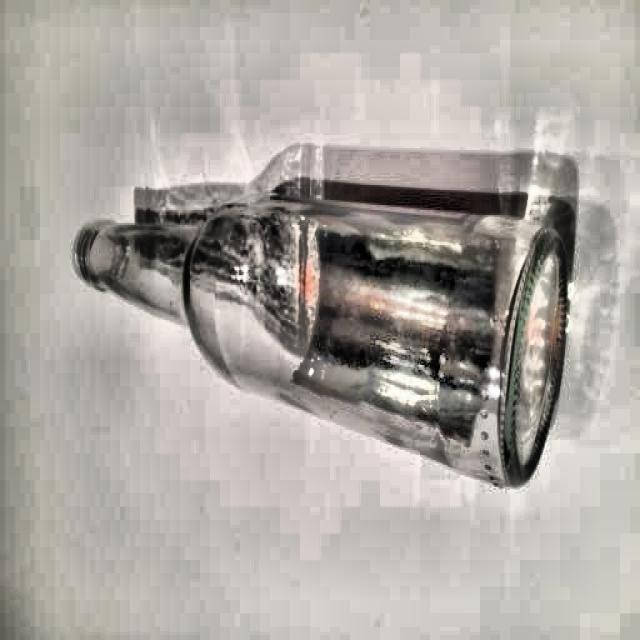glass: (71, 190, 568, 493)
